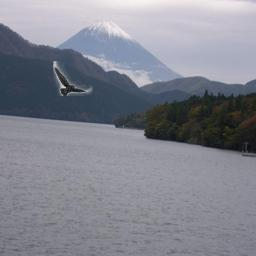Crow: (53, 61, 93, 96)
